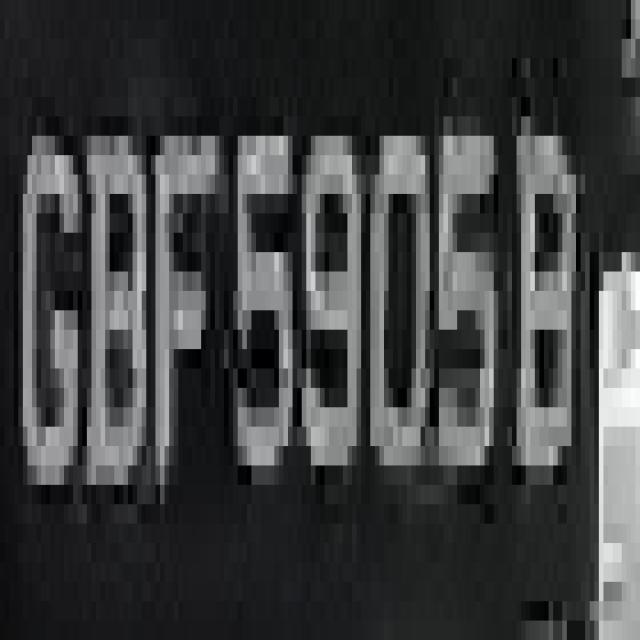0: (361, 58, 439, 485)
5: (220, 78, 306, 543), (425, 97, 503, 562)
9: (292, 97, 366, 485)
B: (78, 59, 151, 562), (508, 97, 585, 562)
F: (146, 58, 220, 524)
G: (18, 59, 87, 562)
